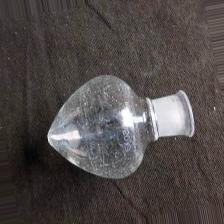Pear shaped flask: (31, 78, 204, 179)
